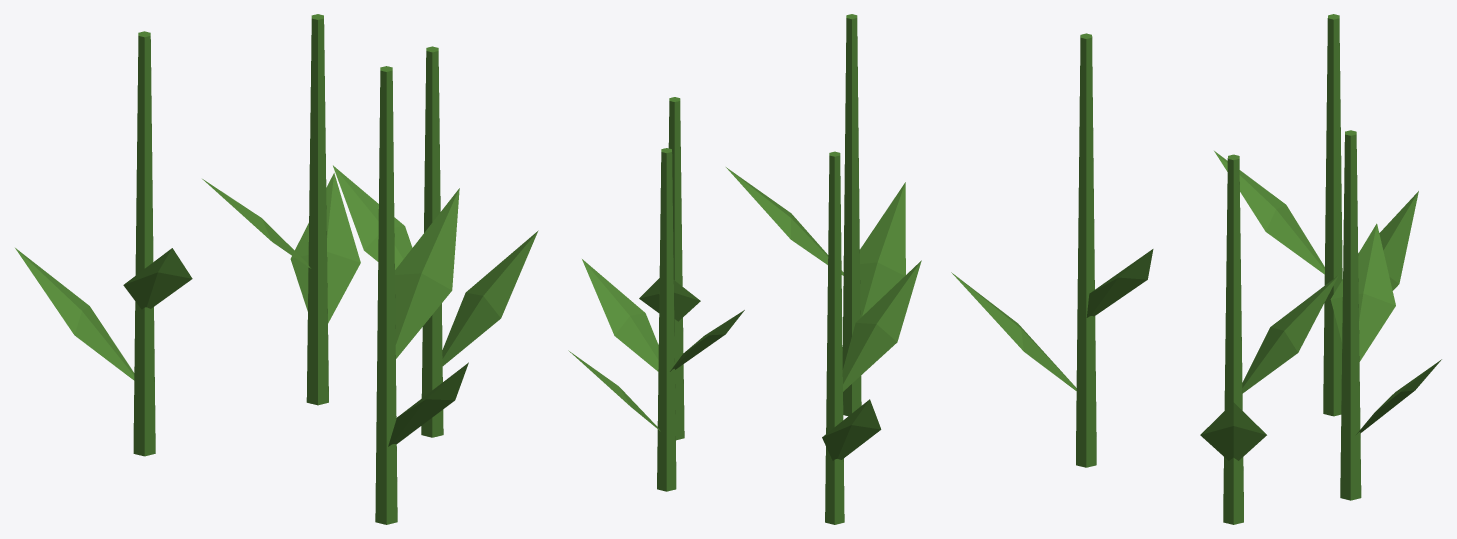
Rendered from wheat_stage_1.glb.
The picture shows the model from 3 angles, left to right: view 1: azimuth 30°, elevation 25°; view 2: azimuth 150°, elevation 25°; view 3: azimuth 270°, elevation 25°; orthographic projection. The views are drawn at different scales.
Parts seen in each view (by area): view 1: wheat_stage_1_Mesh; view 2: wheat_stage_1_Mesh; view 3: wheat_stage_1_Mesh.
Part boxes in pixels (<box>): wheat_stage_1_Mesh: <box>15,14,538,524</box>; wheat_stage_1_Mesh: <box>568,14,921,524</box>; wheat_stage_1_Mesh: <box>951,14,1441,524</box>.
Size of the model in its own units: 0.3465 by 0.35 by 0.3661.
